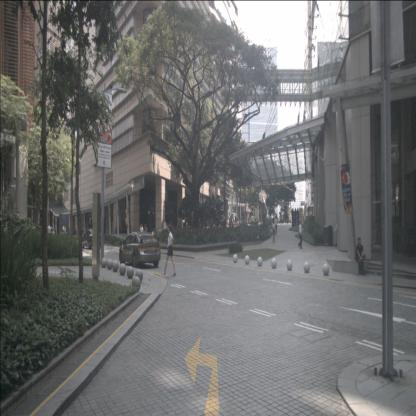human-pedestrian-adult: (162, 225, 176, 277), (355, 237, 366, 275), (298, 221, 303, 249), (274, 216, 278, 235), (140, 223, 144, 242), (272, 221, 275, 243), (144, 223, 147, 242)
vehicle-car: (119, 232, 161, 268), (82, 229, 102, 249)
